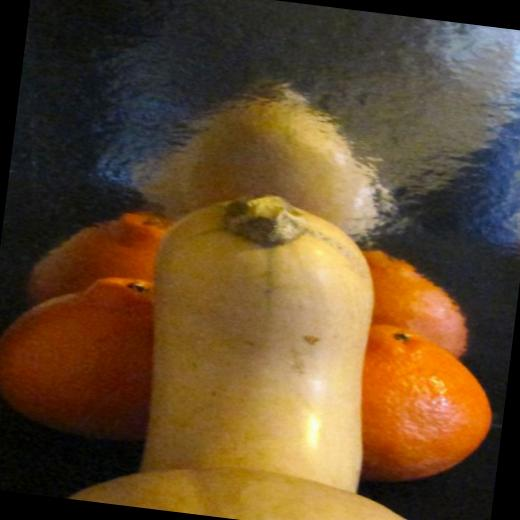Grape: (0, 262, 164, 443), (347, 322, 502, 494), (27, 199, 177, 320), (350, 248, 478, 360)
